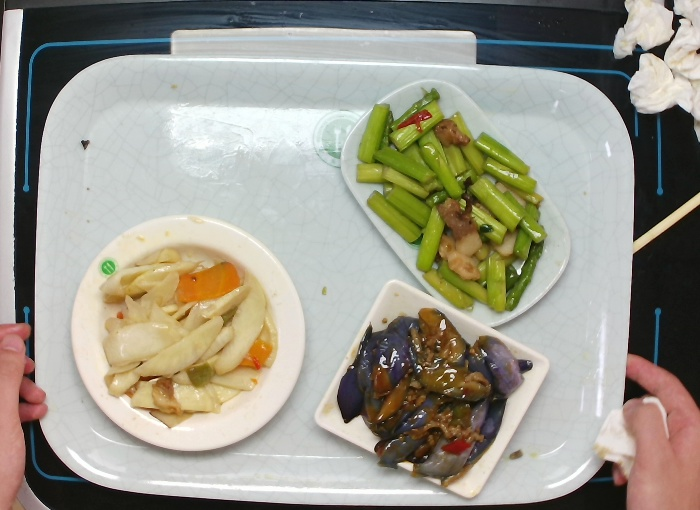WCQzf-Bai_Se_Si_Fang_Die: (308, 274, 551, 504)
WCQzf-Kuan_Bian_Yuan_Die: (69, 211, 310, 457)
WCQzf-Tuo_Yuan_Pan: (335, 75, 572, 338)
